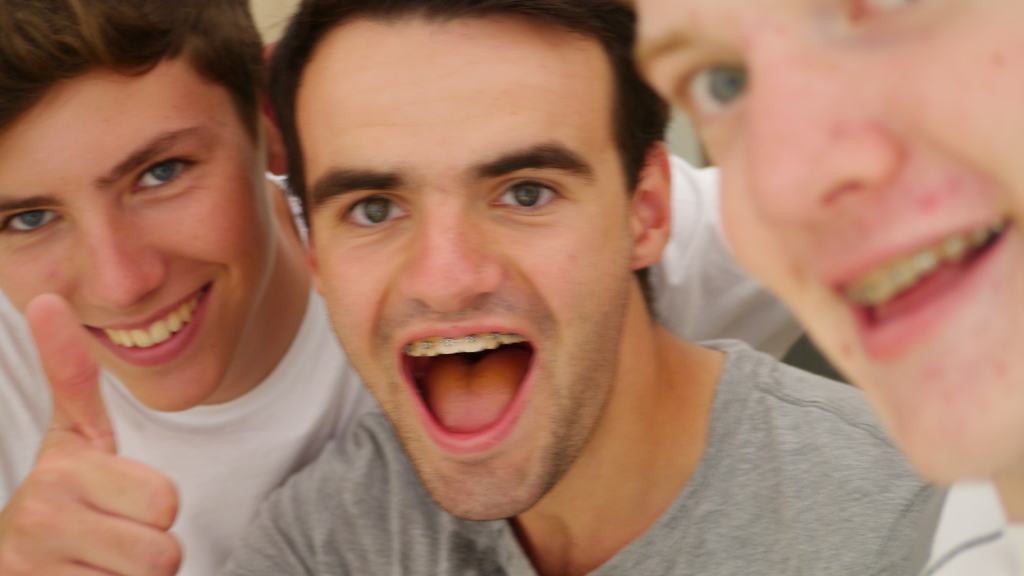Person: (216, 0, 954, 576), (635, 0, 1024, 576), (0, 0, 382, 576)
